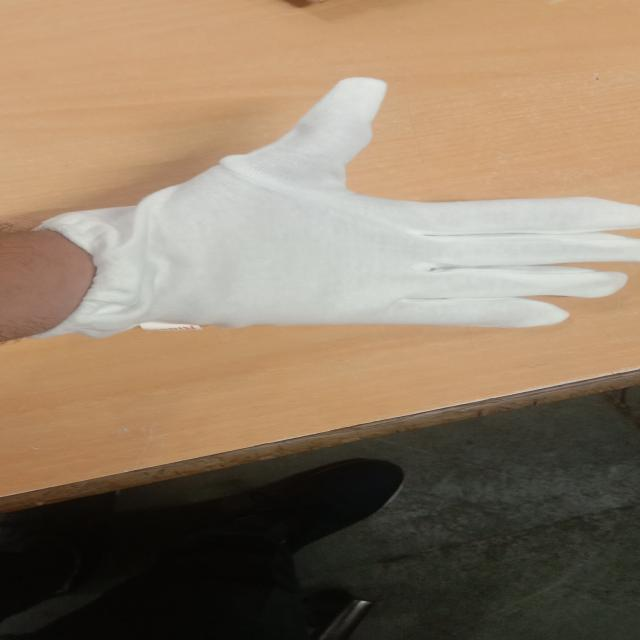glove_hand: (16, 70, 640, 362)
